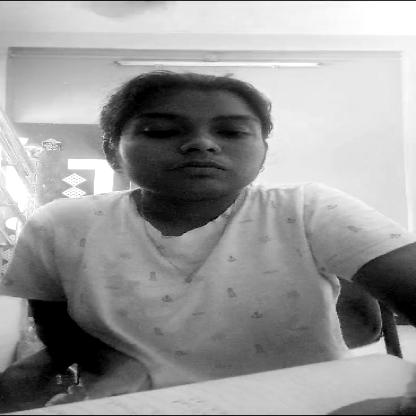Normal: (118, 98, 266, 194)
